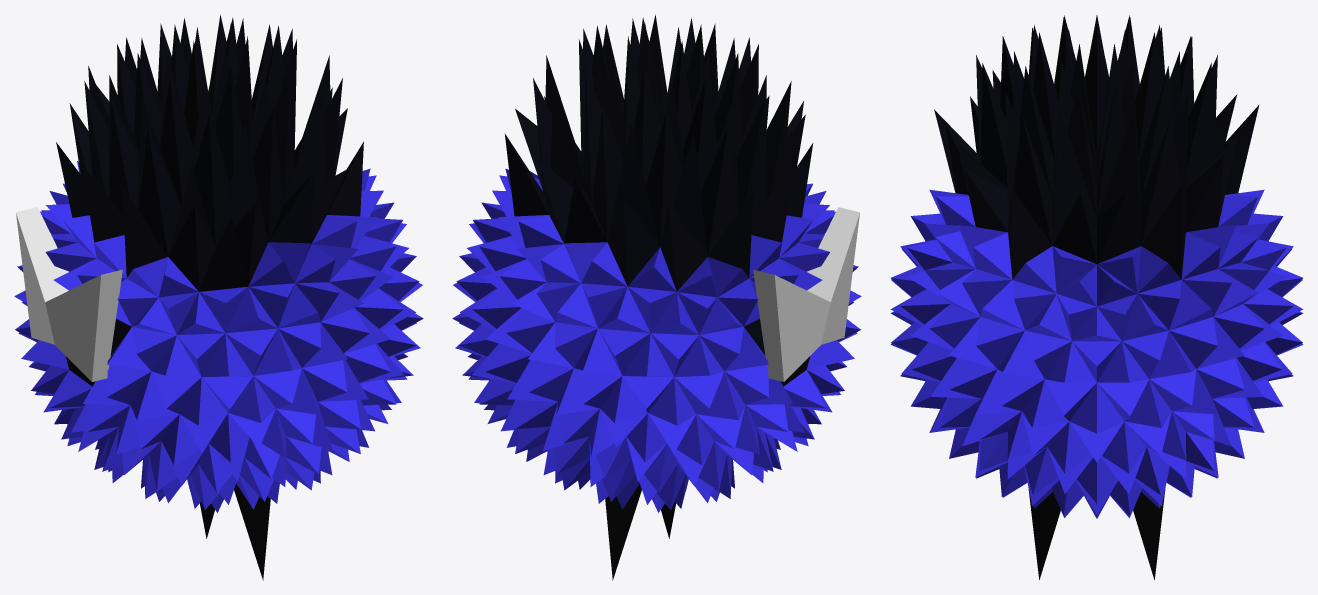
The model's file is Penetrator.fbx.
3 views of the same model, side by side, from view 1: azimuth 30°, elevation 25°; view 2: azimuth 150°, elevation 25°; view 3: azimuth 270°, elevation 25° (orthographic).
Parts seen in each view (by area): view 1: Icosphere, Cube; view 2: Icosphere, Cube; view 3: Icosphere.
Part boxes in pixels (left/top/right/bottom): Icosphere: left=14, top=14, right=423, bottom=580; Cube: left=16, top=207, right=122, bottom=381; Icosphere: left=452, top=14, right=861, bottom=580; Cube: left=753, top=207, right=859, bottom=381; Icosphere: left=890, top=15, right=1303, bottom=579.
Size of the model in its own units: 243 by 352 by 244.
